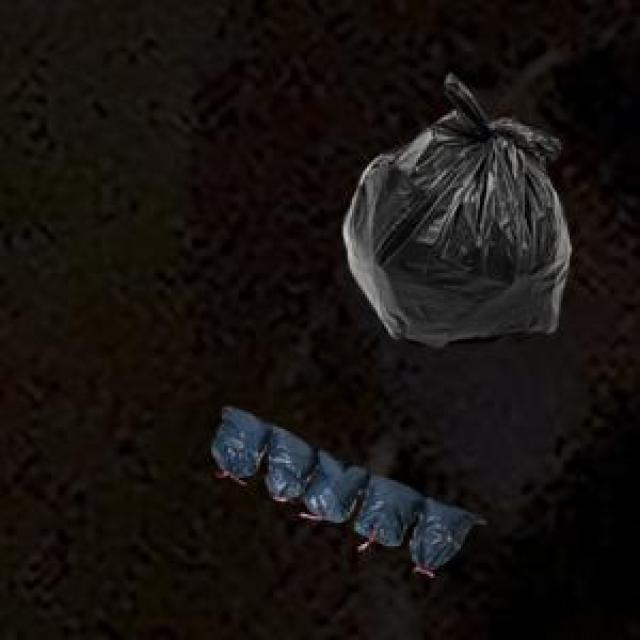waste: (342, 72, 571, 347), (211, 408, 480, 577)
